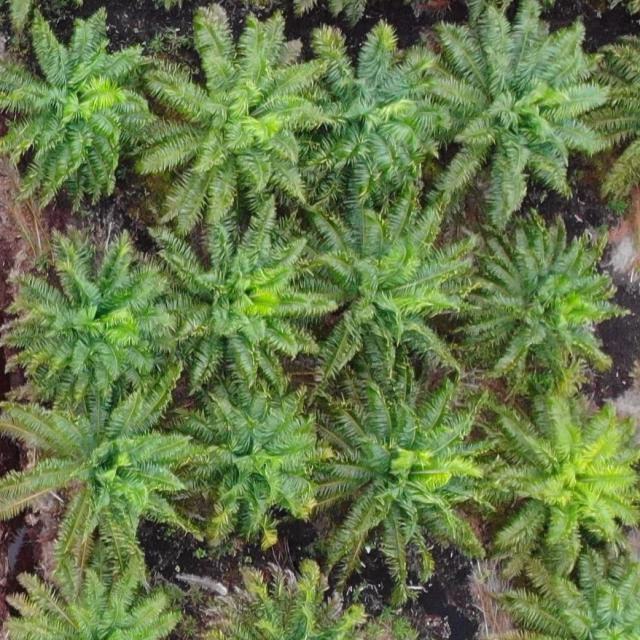Healthy: (129, 4, 331, 237), (422, 4, 611, 227), (133, 194, 344, 393), (308, 374, 485, 592), (1, 372, 189, 570), (309, 188, 474, 386), (2, 227, 176, 412), (3, 7, 153, 217), (452, 214, 625, 390), (478, 392, 640, 571), (166, 382, 329, 548), (305, 20, 449, 202)
